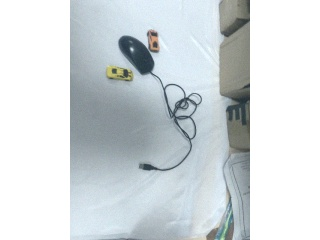box: (218, 19, 251, 101), (225, 101, 251, 152), (218, 1, 250, 37)
mouse: (119, 35, 155, 75)
toy_car: (106, 65, 134, 82), (147, 30, 160, 52)
